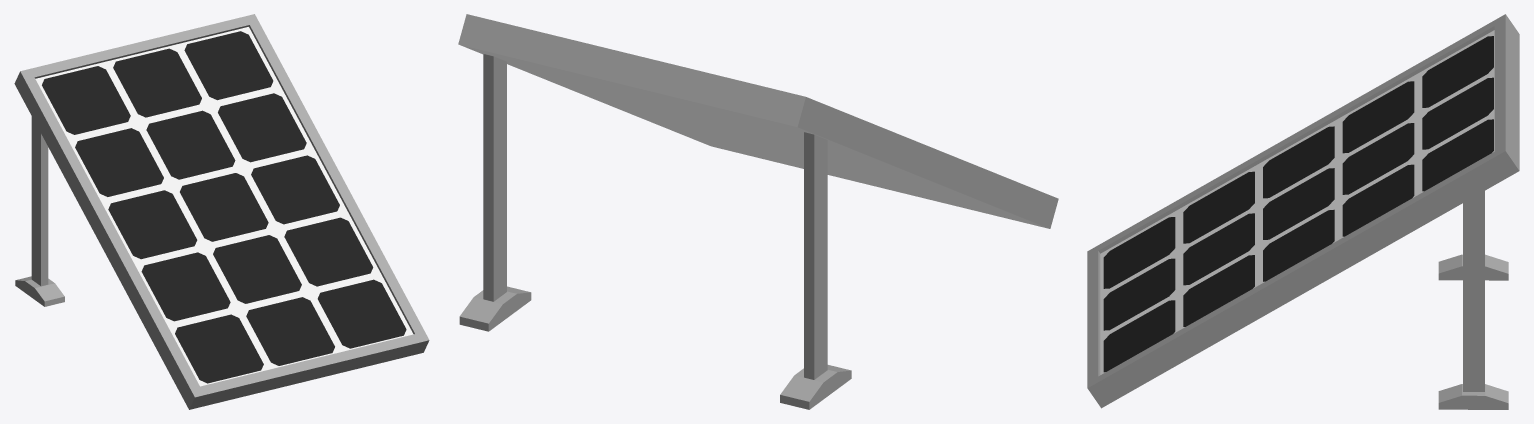
The model's file is solar_array.glb.
The picture shows the model from 3 angles, left to right: view 1: azimuth 30°, elevation 25°; view 2: azimuth 150°, elevation 25°; view 3: azimuth 270°, elevation 25°; orthographic projection. The views are drawn at different scales.
Visible parts, largest first — view 1: SolarPanel_Ground; view 2: SolarPanel_Ground; view 3: SolarPanel_Ground.
Part boxes in pixels (box(x1,y1,x2,y2)): SolarPanel_Ground: box(14, 14, 429, 409); SolarPanel_Ground: box(458, 14, 1058, 409); SolarPanel_Ground: box(1087, 14, 1519, 409).
Bounding box in the file's own units: 1.29 × 1.1 × 1.67.
1 material, 1 textured.
